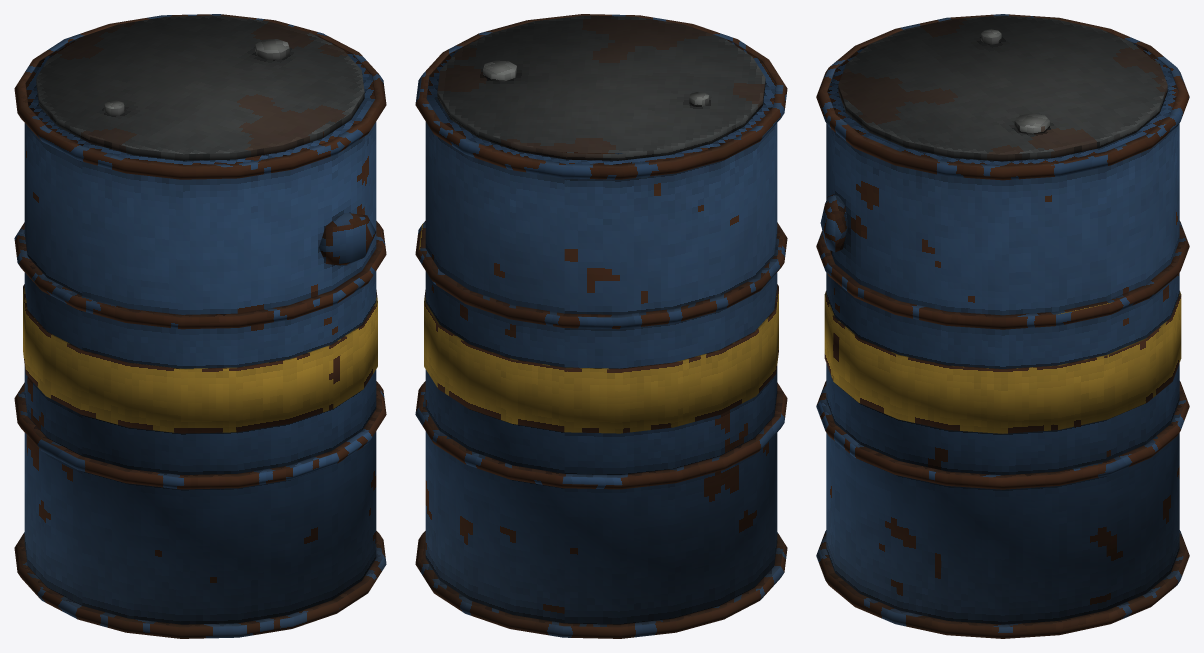
Rendered from drum.glb.
3 renders of one model, left to right at view 1: azimuth 30°, elevation 25°; view 2: azimuth 150°, elevation 25°; view 3: azimuth 270°, elevation 25°, orthographic.
Parts seen in each view (by area): view 1: drum; view 2: drum; view 3: drum.
Part boxes in pixels (left/top/right/bottom): drum: left=14, top=14, right=386, bottom=638; drum: left=415, top=14, right=787, bottom=638; drum: left=816, top=14, right=1189, bottom=638.
Size of the model in its own units: 0.635 by 0.9058 by 0.635.
Materials: 1 (1 with a texture image).
